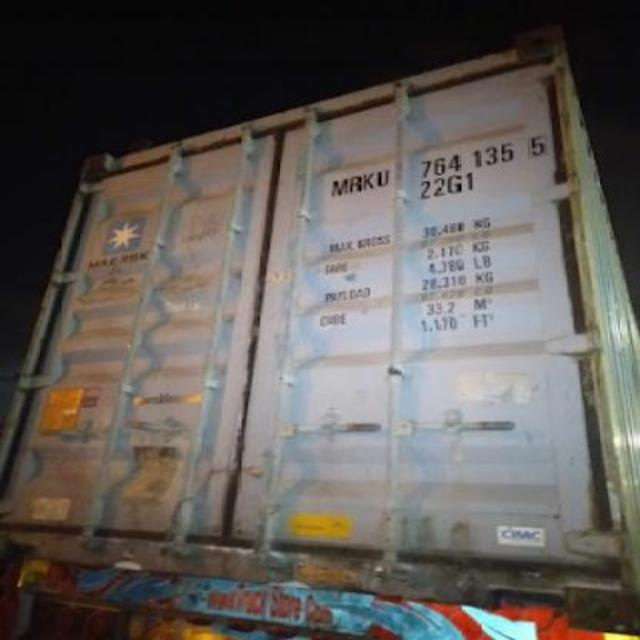1: (472, 146, 486, 170)
3: (484, 142, 502, 168)
4: (448, 152, 464, 172)
5: (498, 140, 518, 167), (530, 133, 548, 157)
6: (432, 154, 448, 176)
7: (418, 158, 434, 178)
K: (362, 172, 376, 192)
M: (326, 178, 350, 198)
R: (348, 172, 364, 194)
U: (376, 166, 394, 188)
